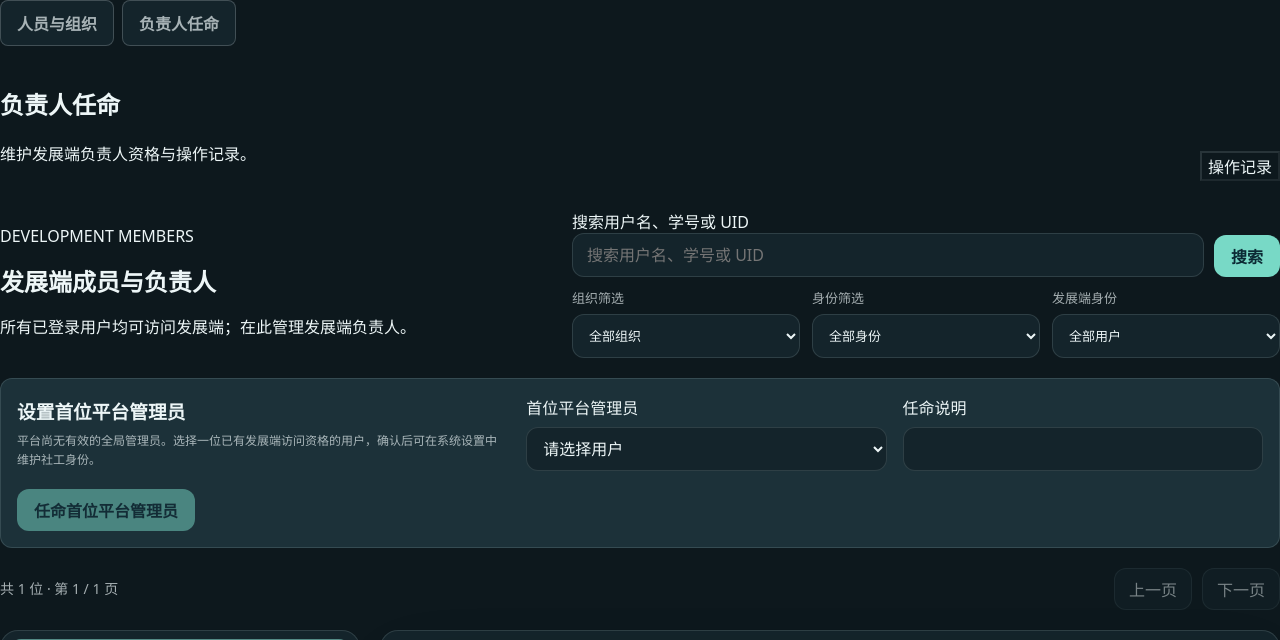
Test: AdminPage shell › keeps the selected first administrator and reason when initialization fails
Check: the button "任命首位平台管理员" is shown, box [17,489,195,531]
Select "Yuchong · uid-1001" in the dropdown labelled "首位平台管理员" at (706, 449), box [526,427,887,471]
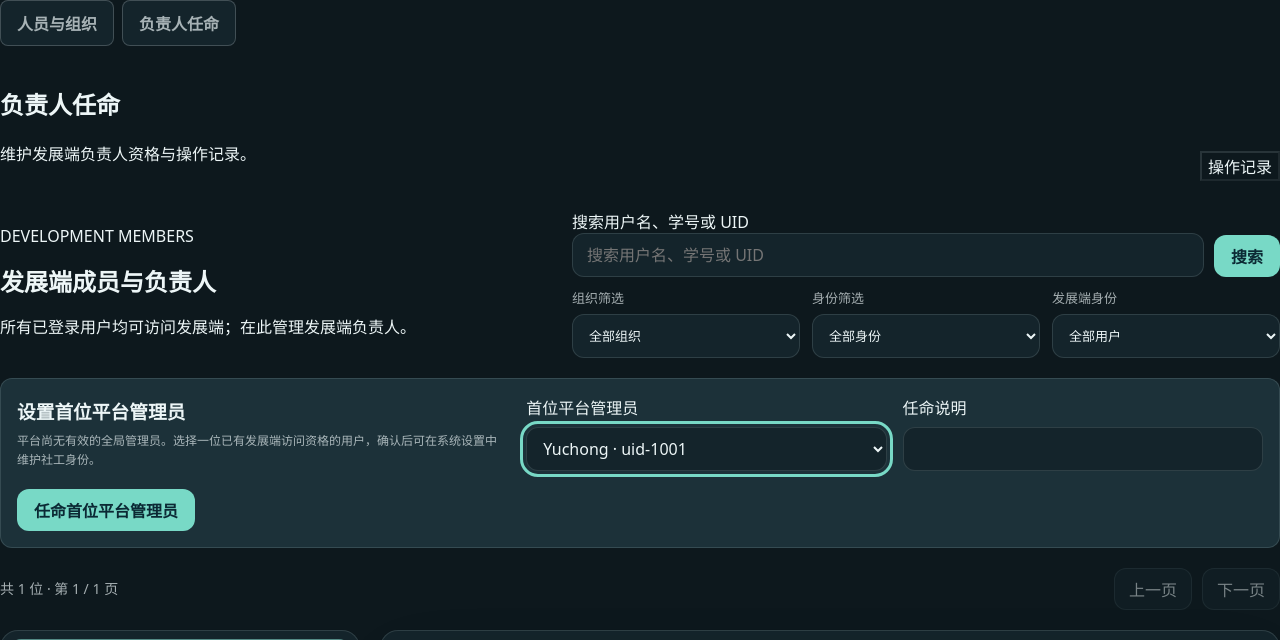
Type "保留说明" into the field labelled "任命说明".
click(1083, 449); type("保留说明")  # box [903,427,1263,471]
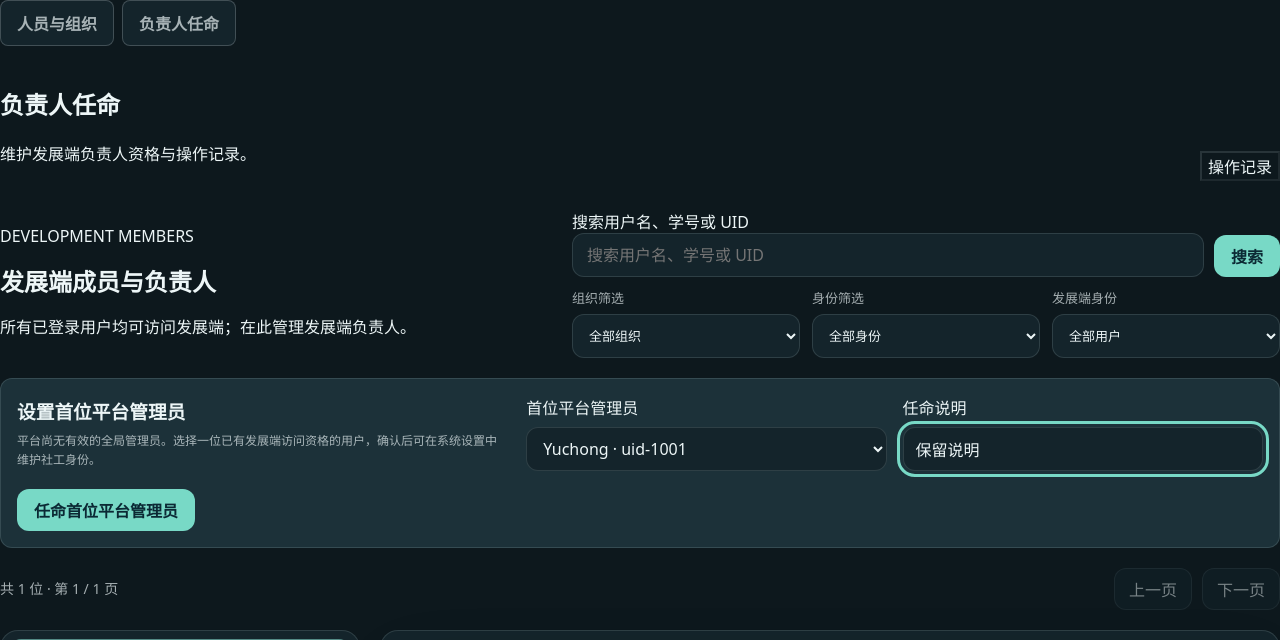
Click the button "任命首位平台管理员".
click(106, 510)  # box [17,489,195,531]
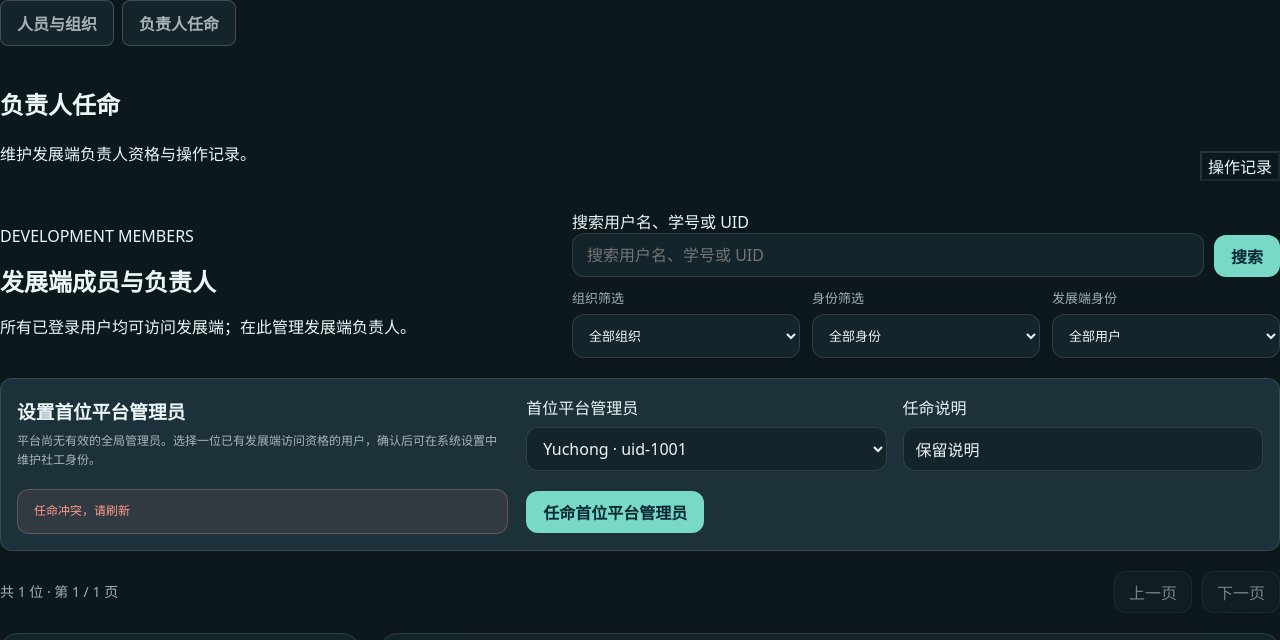
Check: the message reads "任命冲突，请刷新", box [34,502,130,519]
